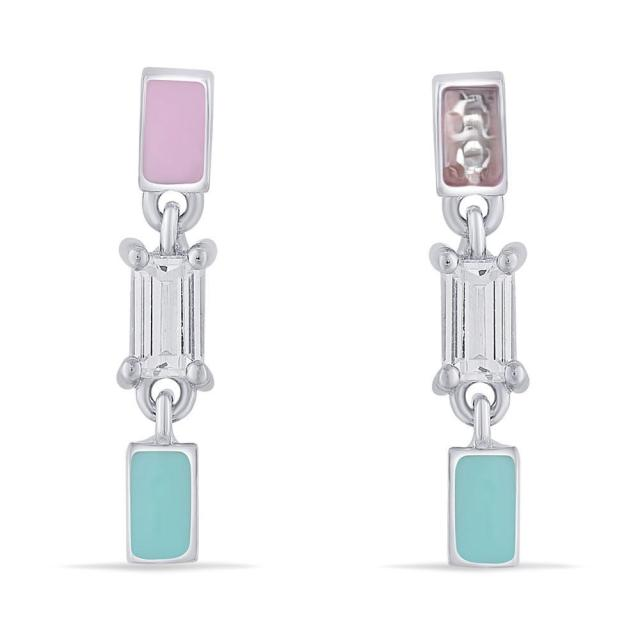missing gem: (441, 85, 503, 187)
